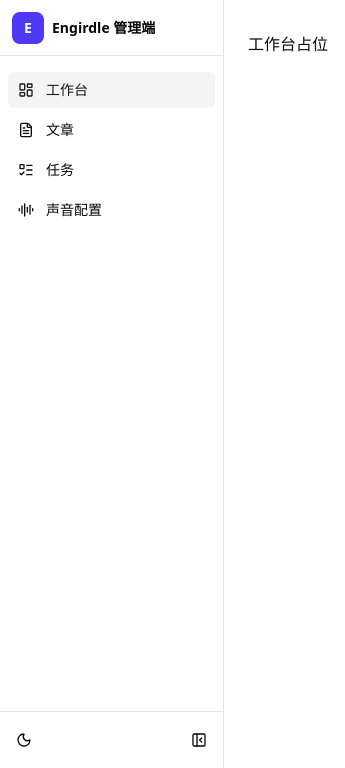
Test case: AppShell › 折叠侧边栏后隐藏导航文字但保留可访问名称
This screenshot has width=345, height=768.
Click the button named "折叠侧边栏". click: (199, 740)
box: x1=183 y1=724 x2=215 y2=756
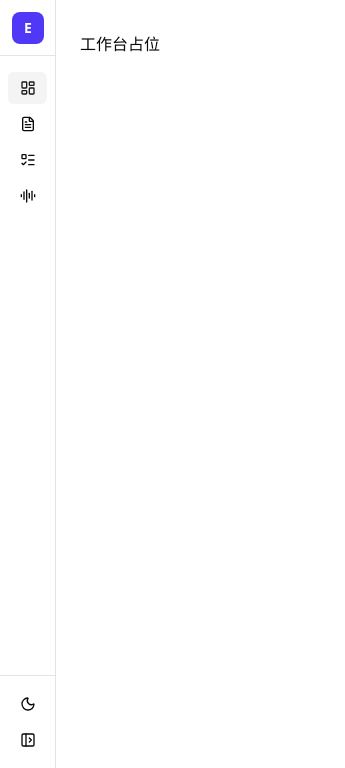
Result: the button named "展开侧边栏" is shown at x1=12 y1=724 x2=44 y2=756
Result: the link named "任务" is empty at x1=20 y1=152 x2=36 y2=168
